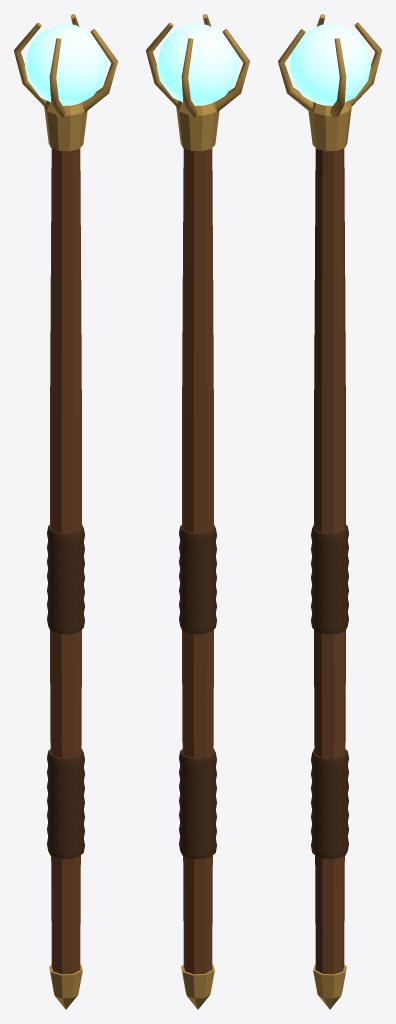
File: staff.glb
3 views of the same model, side by side, from view 1: azimuth 30°, elevation 25°; view 2: azimuth 210°, elevation 25°; view 3: azimuth 330°, elevation 25° (orthographic).
Parts seen in each view (by area): view 1: Staff_Shaft, Staff_Orb, Staff_Fittings, Staff_OffGrip, Staff_Grip; view 2: Staff_Shaft, Staff_Orb, Staff_Fittings, Staff_OffGrip, Staff_Grip; view 3: Staff_Shaft, Staff_Orb, Staff_Fittings, Staff_OffGrip, Staff_Grip.
Boxes of the visible parts, left/top/right/bottom form: Staff_Shaft: left=50, top=148, right=81, bottom=974; Staff_Orb: left=24, top=24, right=107, bottom=105; Staff_Fittings: left=14, top=14, right=117, bottom=1009; Staff_OffGrip: left=47, top=748, right=84, bottom=859; Staff_Grip: left=47, top=525, right=84, bottom=634; Staff_Shaft: left=182, top=148, right=213, bottom=974; Staff_Orb: left=156, top=24, right=239, bottom=105; Staff_Fittings: left=146, top=14, right=249, bottom=1009; Staff_OffGrip: left=179, top=748, right=216, bottom=859; Staff_Grip: left=179, top=525, right=216, bottom=634; Staff_Shaft: left=314, top=148, right=345, bottom=974; Staff_Orb: left=288, top=24, right=371, bottom=105; Staff_Fittings: left=278, top=14, right=381, bottom=1009; Staff_OffGrip: left=311, top=748, right=348, bottom=859; Staff_Grip: left=311, top=525, right=348, bottom=634.
Size of the model in its own units: 0.09 by 1.18 by 0.0877.
